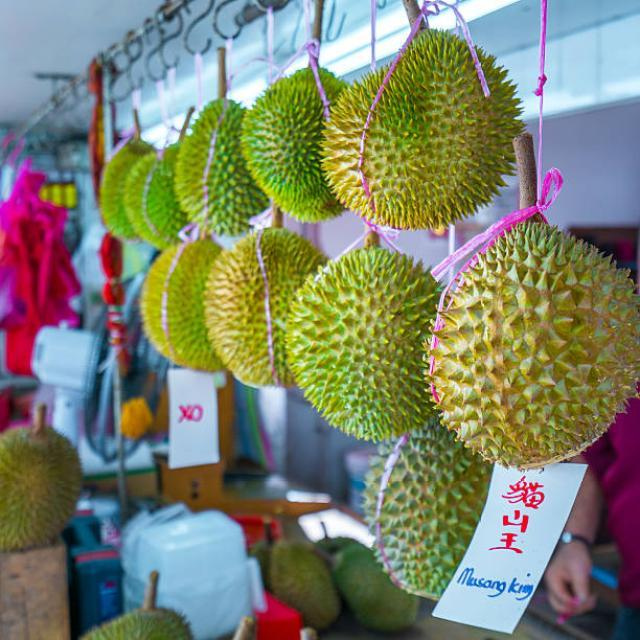immature: (321, 26, 529, 235), (279, 242, 453, 442), (361, 426, 495, 600), (203, 225, 336, 389), (239, 61, 354, 221), (175, 94, 273, 232), (138, 231, 228, 373), (125, 143, 197, 247)
mature: (420, 217, 640, 470)
